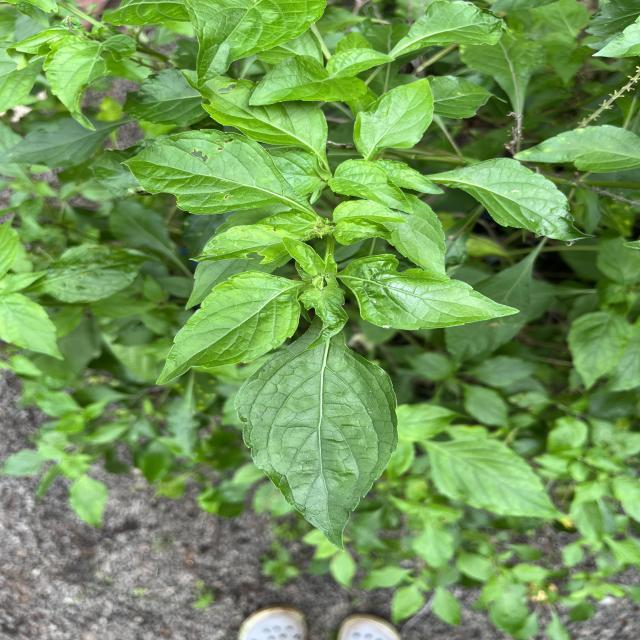Ocimum gratissimum: (230, 324, 404, 557), (115, 123, 314, 224), (153, 268, 306, 388), (424, 154, 600, 245), (333, 251, 525, 333), (180, 64, 330, 160), (182, 0, 329, 92), (377, 0, 509, 75), (350, 75, 438, 167)
